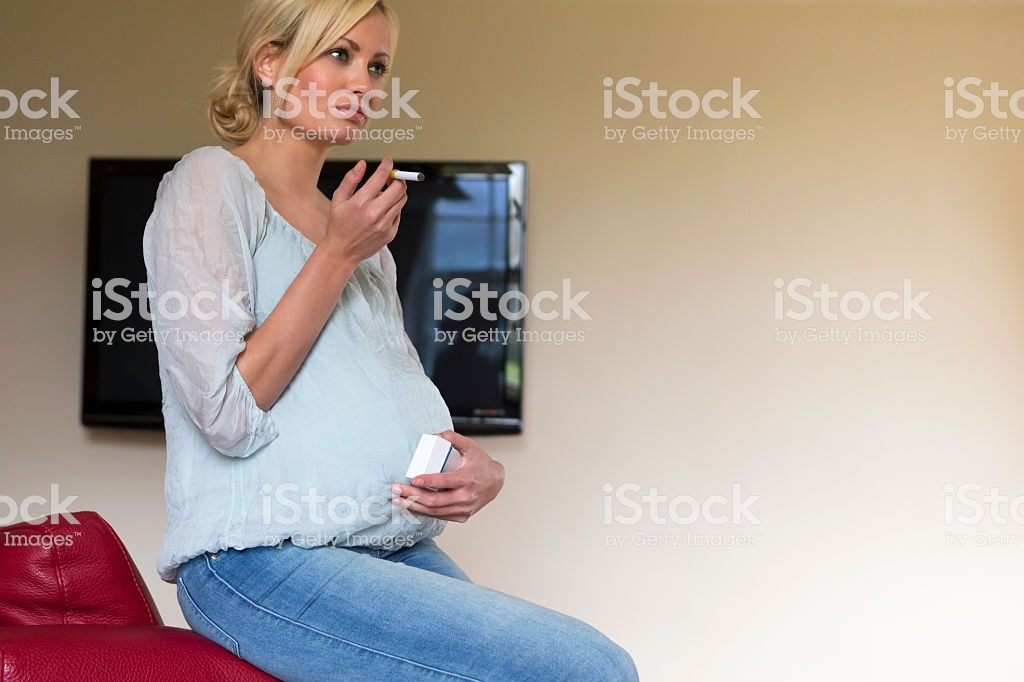sigaretta: (375, 166, 424, 181)
